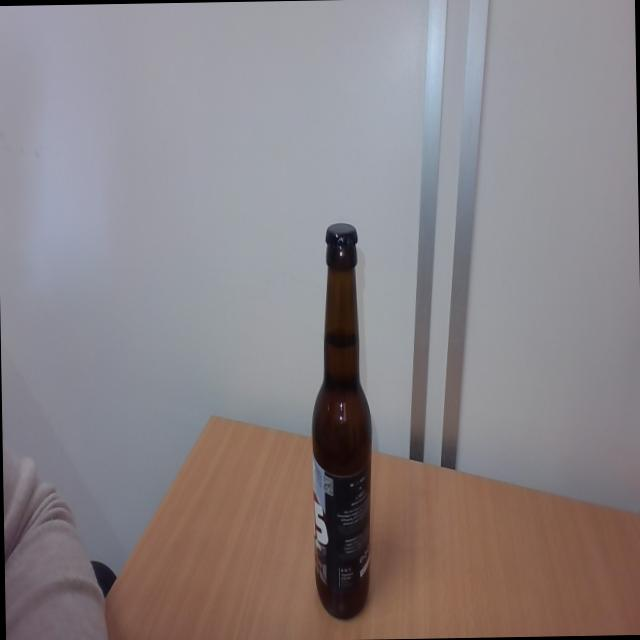Bottle: (308, 250, 374, 620)
Cap: (324, 220, 361, 248)
Label: (313, 461, 372, 588)
